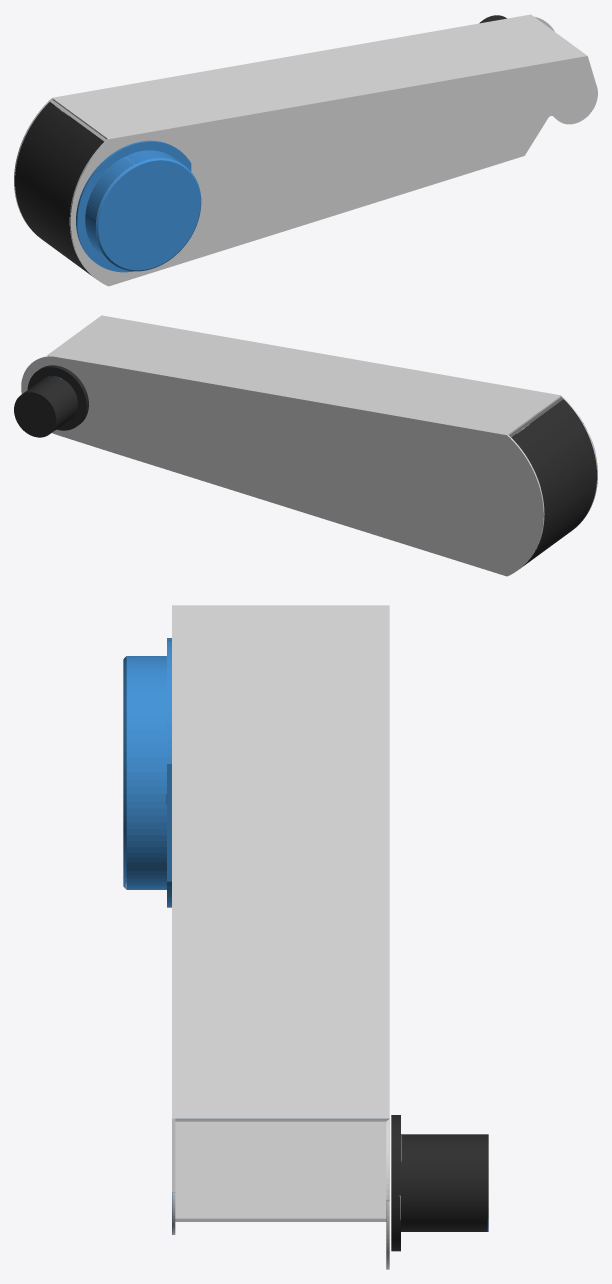
File: TR5_UpperArm.dae
The picture shows the model from 3 angles, top to bottom: view 1: azimuth 30°, elevation 25°; view 2: azimuth 150°, elevation 25°; view 3: azimuth 270°, elevation 25°; orthographic projection. The views are drawn at different scales.
Parts seen in each view (by area): view 1: UpperArm; view 2: UpperArm; view 3: UpperArm.
Part boxes in pixels (box(x1,y1,x2,y2)): UpperArm: box(14, 14, 597, 286); UpperArm: box(14, 315, 597, 576); UpperArm: box(123, 605, 488, 1269).
Size of the model in its own units: 0.3714 by 0.1125 by 0.096.
3 materials, 3 textured.
